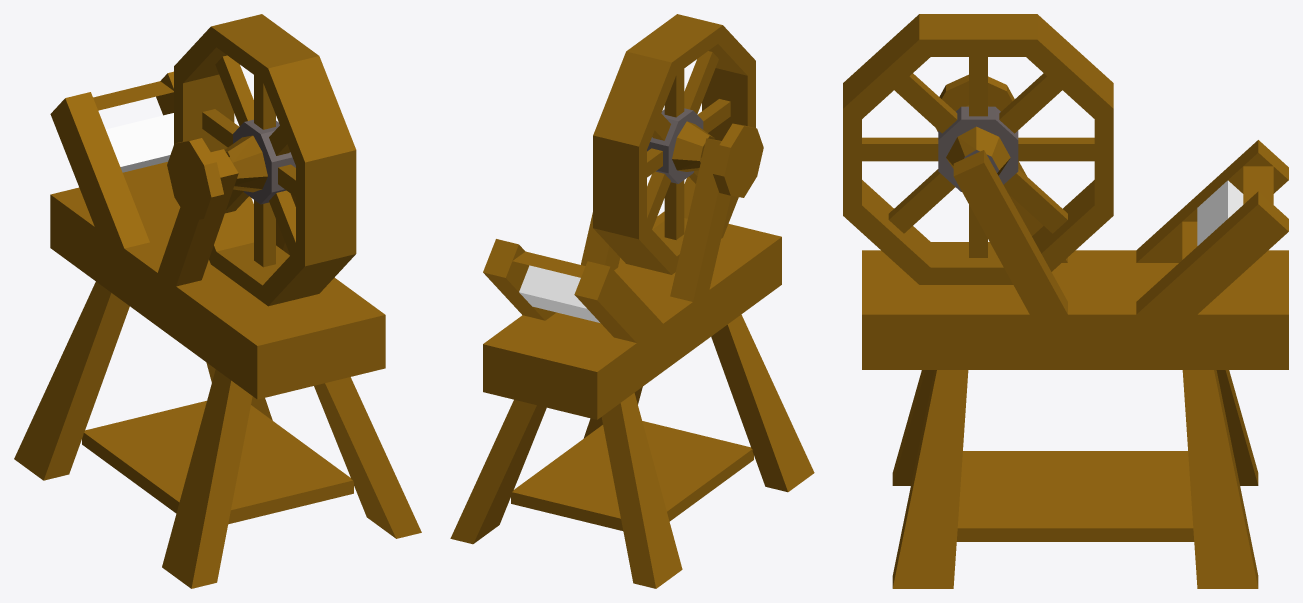
File: obj_spinning_wheel_0.obj
3 renders of one model, left to right at view 1: azimuth 30°, elevation 25°; view 2: azimuth 150°, elevation 25°; view 3: azimuth 270°, elevation 25°, orthographic. The views are drawn at different scales.
Bounding box in the file's own units: 0.5625 × 1.14 × 0.9141.
